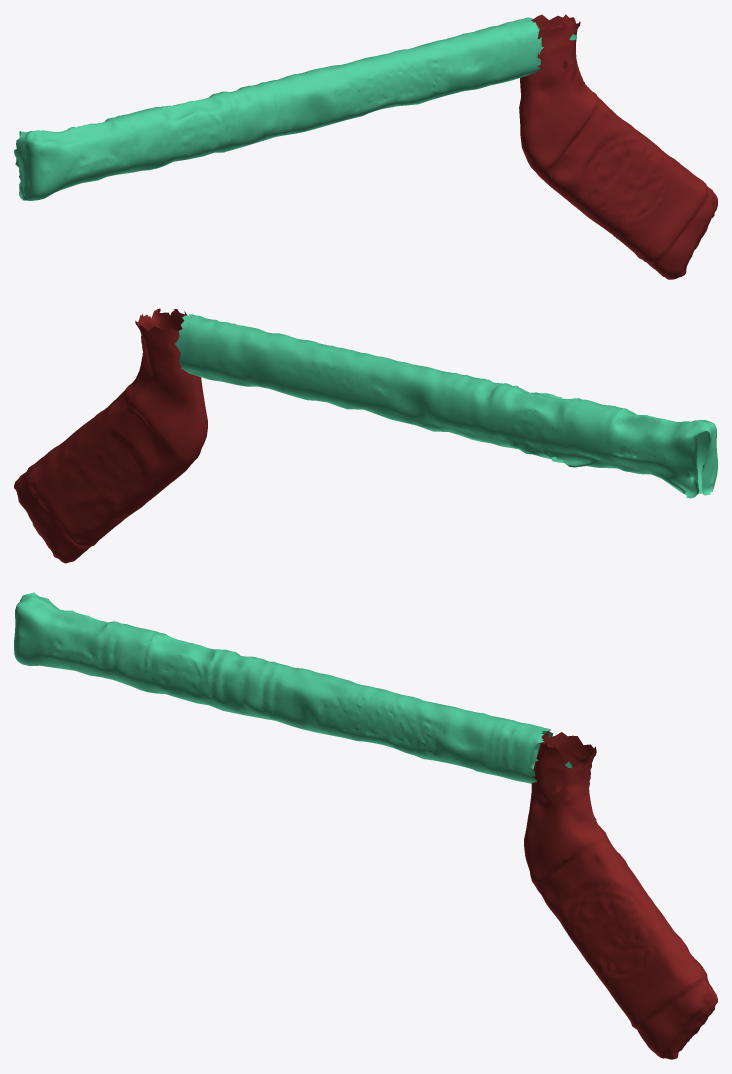
The model's file is object_deformed_9.obj.
The picture shows the model from 3 angles, top to bottom: view 1: azimuth 30°, elevation 25°; view 2: azimuth 150°, elevation 25°; view 3: azimuth 330°, elevation 25°; orthographic projection.
Size of the model in its own units: 0.5534 by 0.2262 by 0.043.
